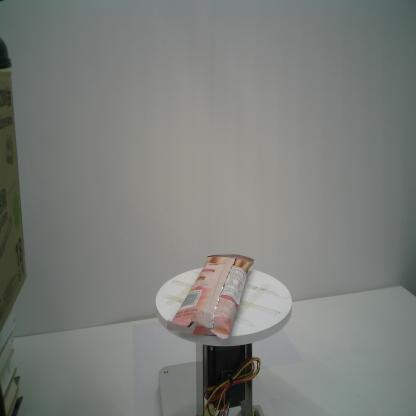Dessert: (166, 254, 254, 340)
